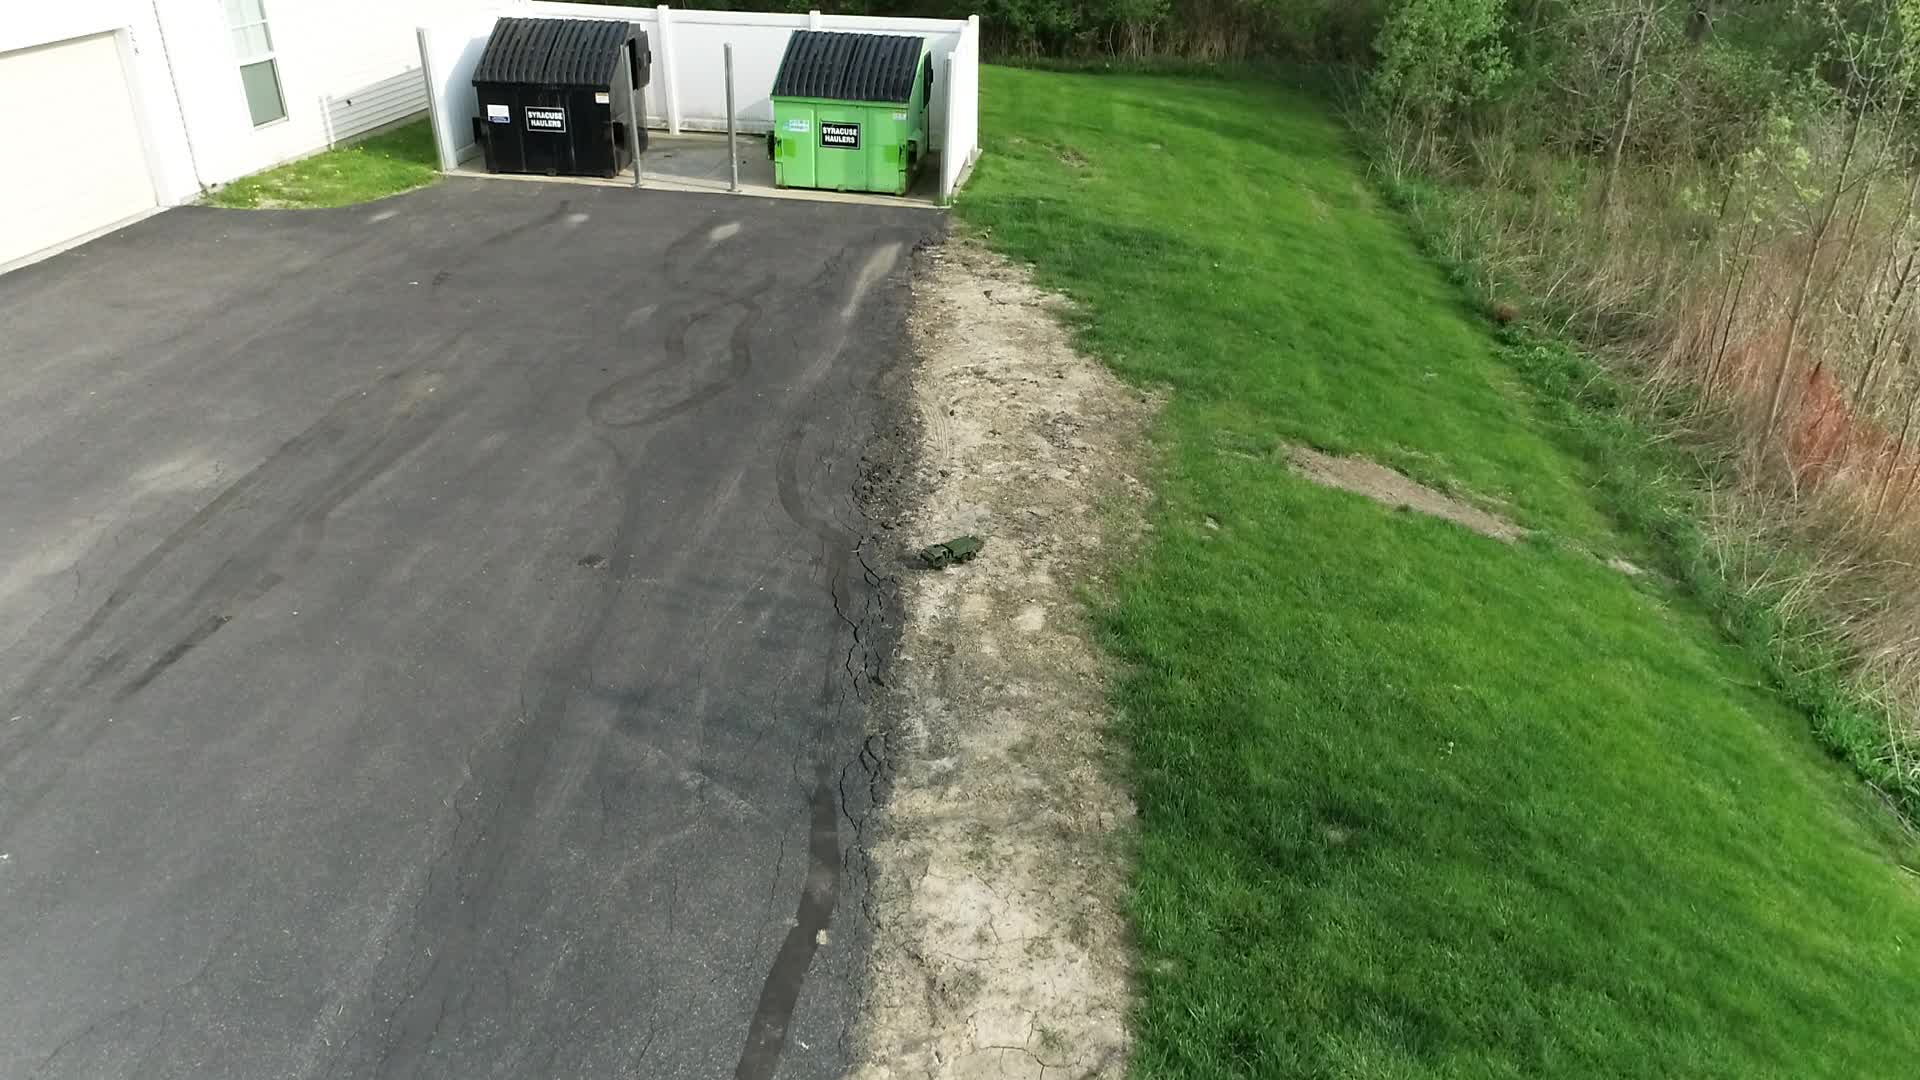transporter9: (916, 530, 989, 571)
